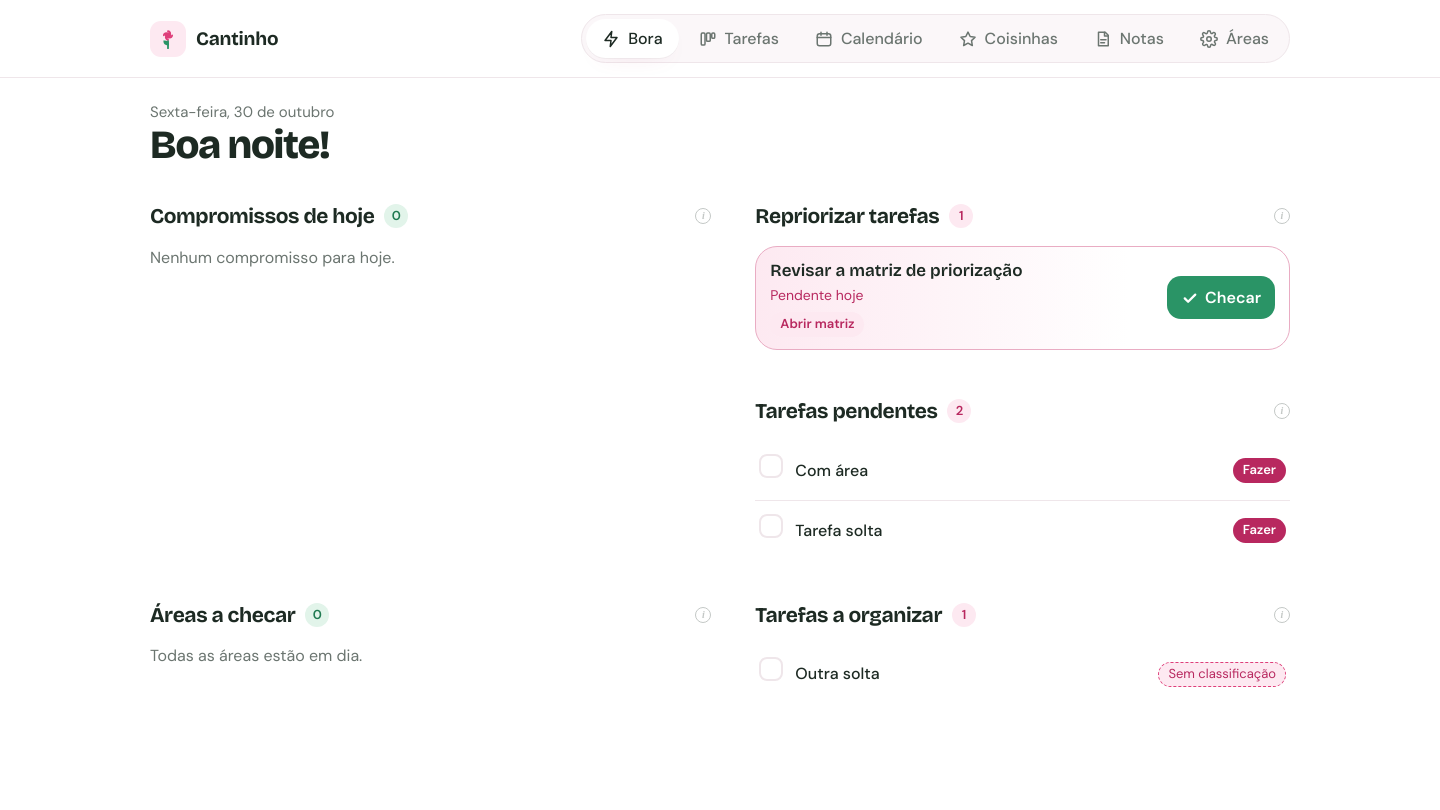
Scenario: Tarefas sem área › aparecem na matriz como "Sem área"
Click the tab "Tarefas" at x=739, y=39, box [683, 19, 795, 58]
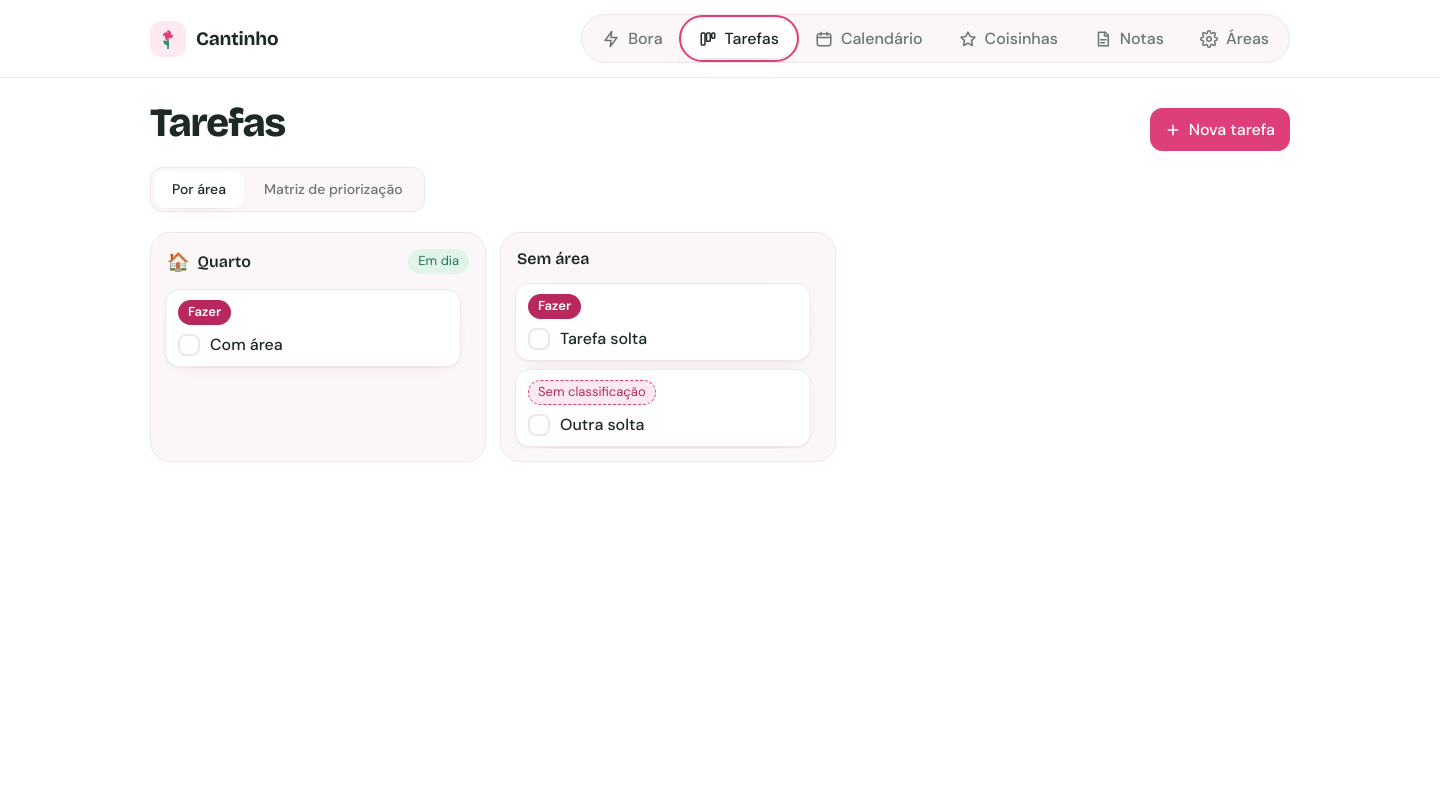
Click the button "Matriz de priorização" at x=333, y=190, box [246, 171, 420, 208]
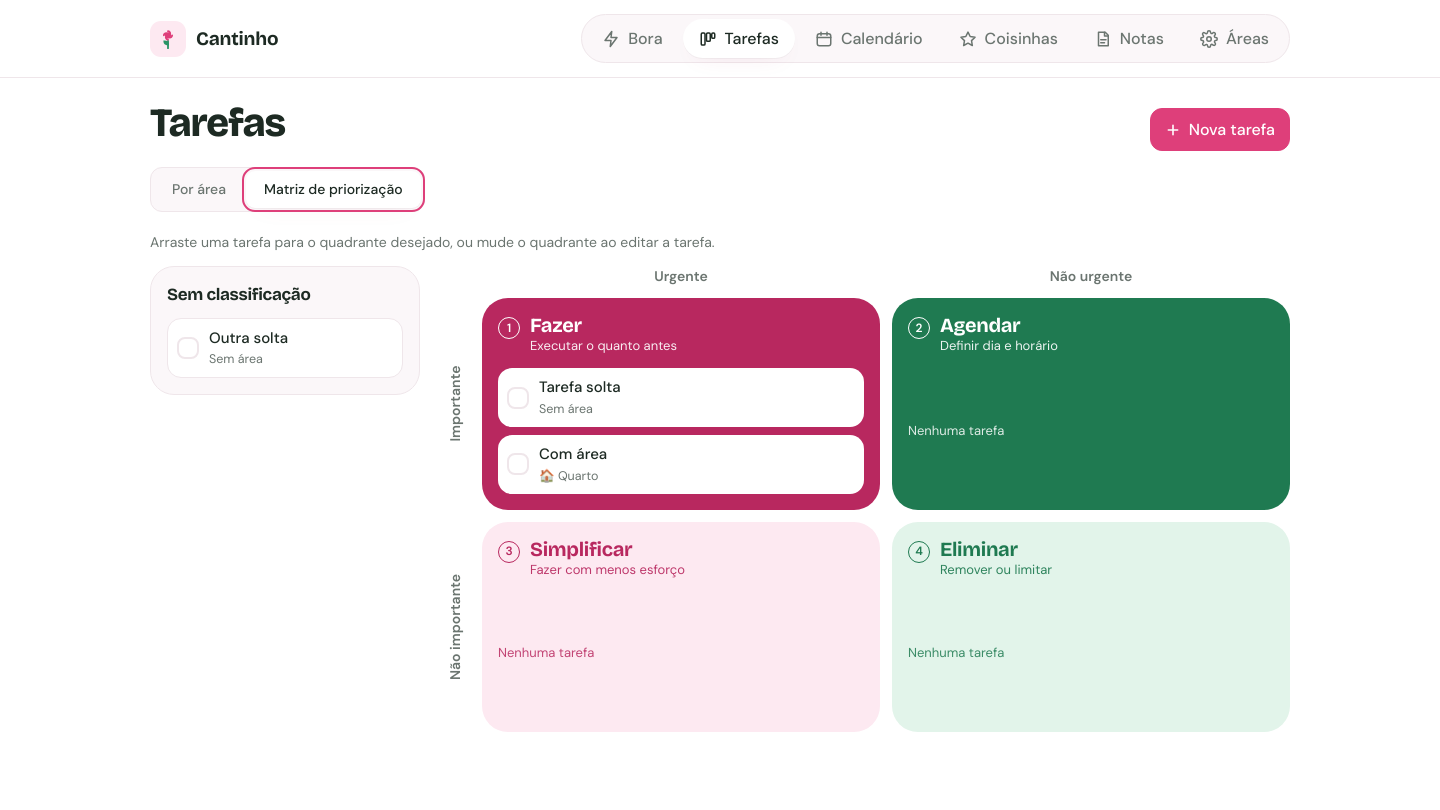
Result: the text "Sem área" below "Executar o quanto antes" is shown at [539, 401, 593, 417]
